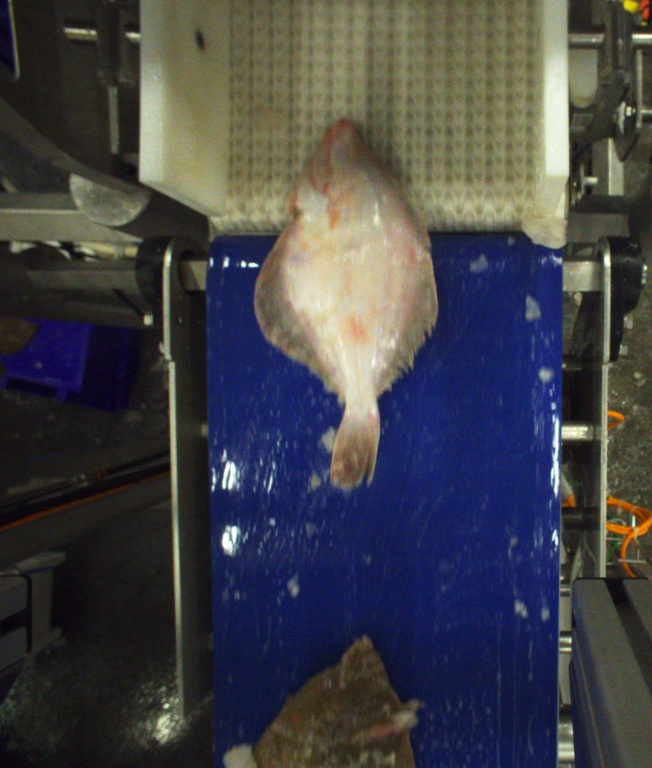PLE: (252, 117, 439, 481)
